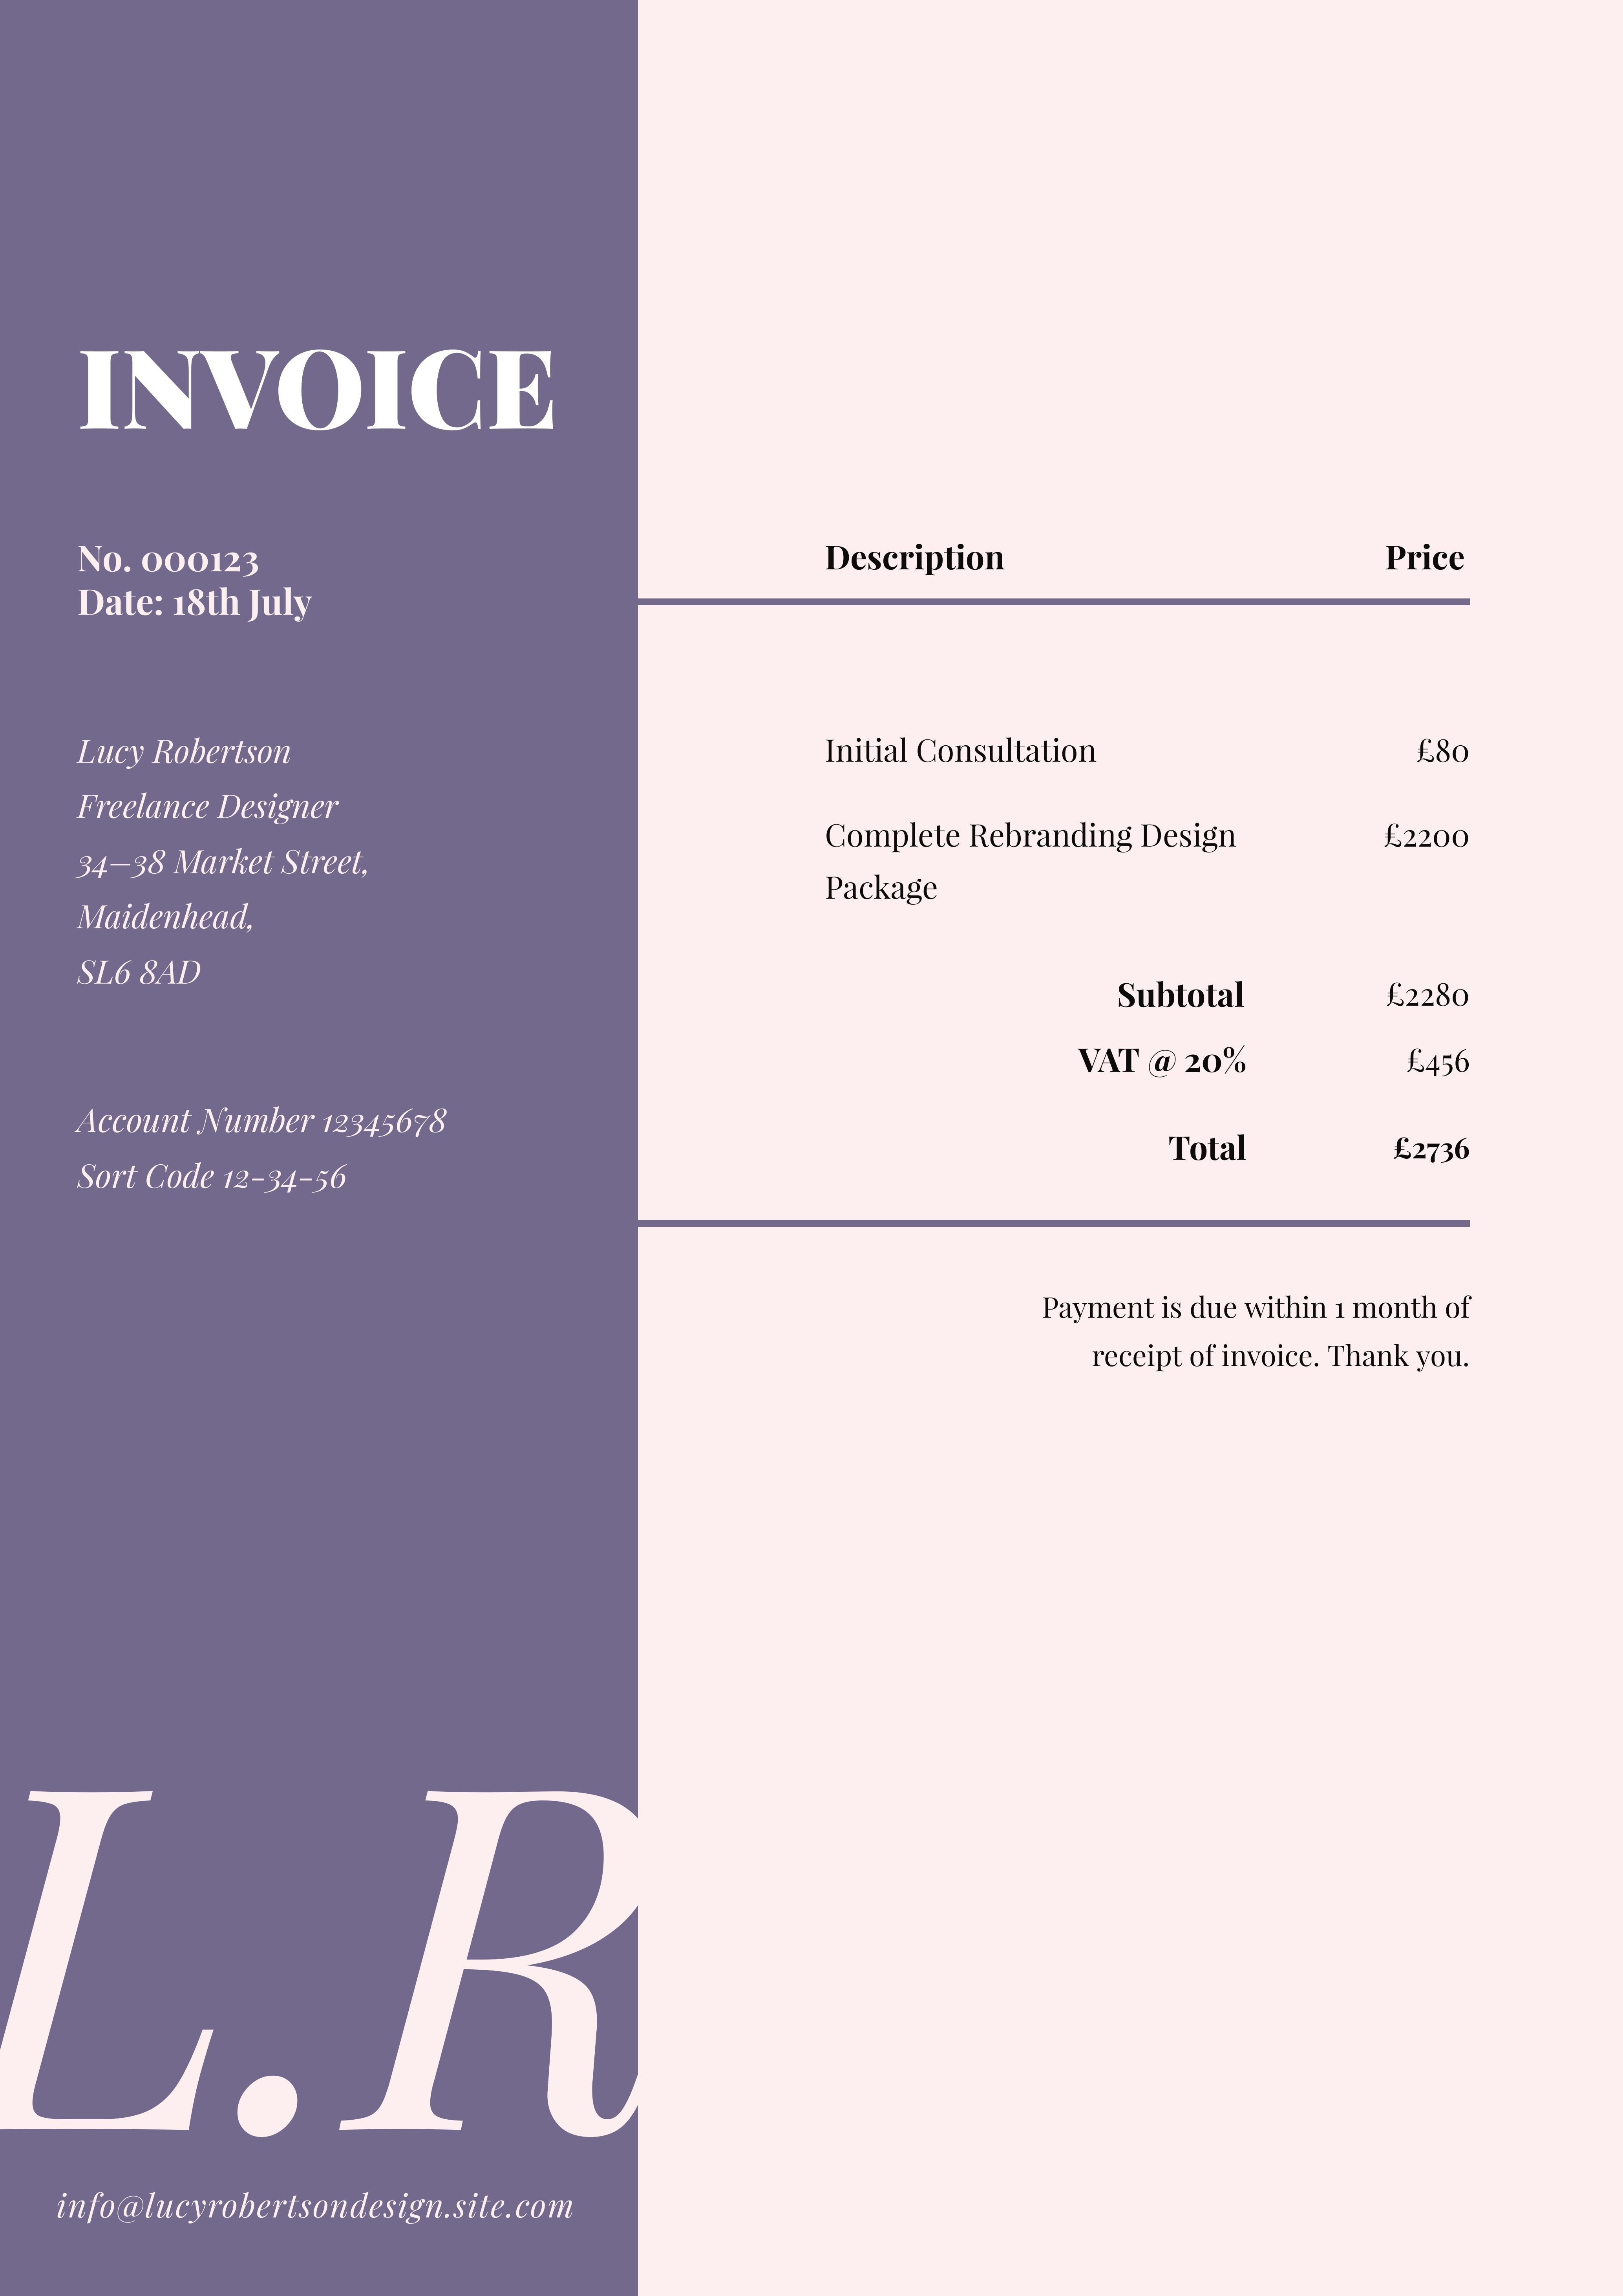ROI: (796, 538, 1480, 911), (1056, 972, 1480, 1194), (64, 731, 382, 994), (60, 1080, 458, 1204), (60, 529, 329, 634)
